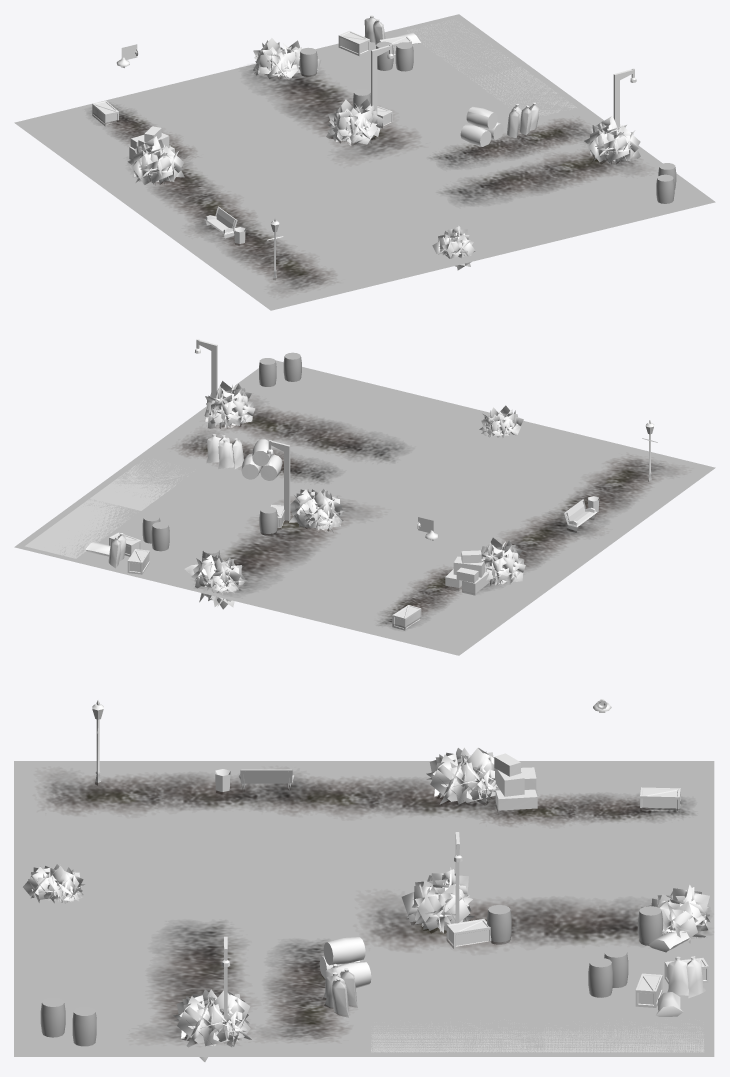
File: propsonly_brew-mid.gltf
3 renders of one model, top to bottom at view 1: azimuth 30°, elevation 25°; view 2: azimuth 150°, elevation 25°; view 3: azimuth 270°, elevation 25°, orthographic. The views are drawn at different scales.
Visible parts, largest first — view 1: file_b2_ground1.040, file_b2_ground3.027, file_b2_ground1.038, file_b1_ground.001, file_b2_ground1.034, file_b2_ground1.041, file_b2_ground1.035, file_b2_ground1.036, file_b2_ground4.003, file_b2_ground1.025, file_b2_ground2.005, file_b2_ground1.039 (+26 smaller); view 2: file_b2_ground1.041, file_b2_ground1.040, file_b2_ground1.035, file_b2_ground1.036, file_b2_ground1.025, file_b2_ground4.003, file_b2_ground1.034, file_b2_ground1.038, file_b1_ground.001, file_b2_ground3.027, file_b2_ground1.039, file_b2_ground3.023 (+25 smaller); view 3: file_b2_ground1.034, file_b2_ground1.040, file_b2_ground1.039, file_b2_ground4.003, file_b2_ground1.038, file_b2_ground2.005, file_b2_ground1.035, file_b2_ground1.041, file_b1_ground.001, file_b2_ground1.036, file_b2_ground3.027, file_b2_ground3.026 (+29 smaller).
Part boxes in pixels (box(x1,y1,x2,y2)): file_b2_ground1.040: box(203, 234, 389, 310); file_b2_ground3.027: box(528, 152, 715, 231); file_b2_ground1.038: box(139, 185, 327, 264); file_b1_ground.001: box(259, 161, 435, 234); file_b2_ground1.034: box(426, 181, 595, 257); file_b2_ground1.041: box(123, 67, 303, 139); file_b2_ground1.035: box(315, 206, 498, 283); file_b2_ground1.036: box(192, 115, 355, 189); file_b2_ground4.003: box(14, 94, 201, 171); file_b2_ground1.025: box(357, 136, 526, 209); file_b2_ground2.005: box(356, 14, 527, 91); file_b2_ground1.039: box(404, 62, 588, 125); file_b2_ground1.041: box(231, 550, 411, 629); file_b2_ground1.040: box(528, 439, 715, 513); file_b2_ground1.035: box(421, 412, 606, 488); file_b2_ground1.036: box(306, 511, 481, 583); file_b2_ground1.025: box(248, 434, 435, 506); file_b2_ground4.003: box(341, 581, 520, 655); file_b2_ground1.034: box(315, 387, 489, 458); file_b2_ground1.038: box(471, 485, 652, 561); file_b1_ground.001: box(367, 462, 534, 531); file_b2_ground3.027: box(202, 360, 389, 437); file_b2_ground1.039: box(83, 451, 263, 525); file_b2_ground3.023: box(123, 523, 308, 599); file_b2_ground1.034: box(14, 905, 201, 984); file_b2_ground1.040: box(14, 761, 201, 840); file_b2_ground1.039: box(355, 977, 543, 1056); file_b2_ground4.003: box(526, 761, 714, 840); file_b2_ground1.038: box(184, 761, 372, 840); file_b2_ground2.005: box(526, 977, 714, 1056); file_b2_ground1.035: box(14, 833, 201, 912); file_b2_ground1.041: box(526, 833, 714, 912); file_b1_ground.001: box(184, 833, 372, 912); file_b2_ground1.036: box(355, 833, 543, 912); file_b2_ground3.027: box(14, 984, 201, 1056); file_b2_ground3.026: box(184, 977, 372, 1056).
Size of what is drawn, in the model's own units: 4.1 by 0.9485 by 4.11.
